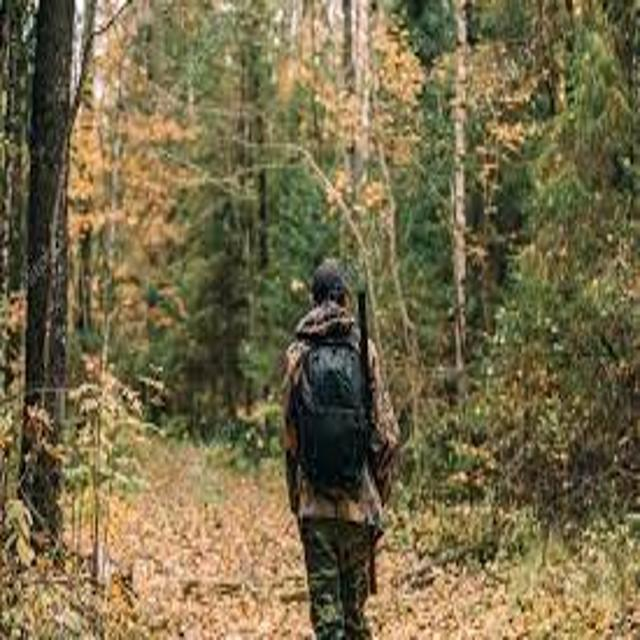gun: (267, 310, 400, 514)
poacher: (229, 233, 442, 640)
